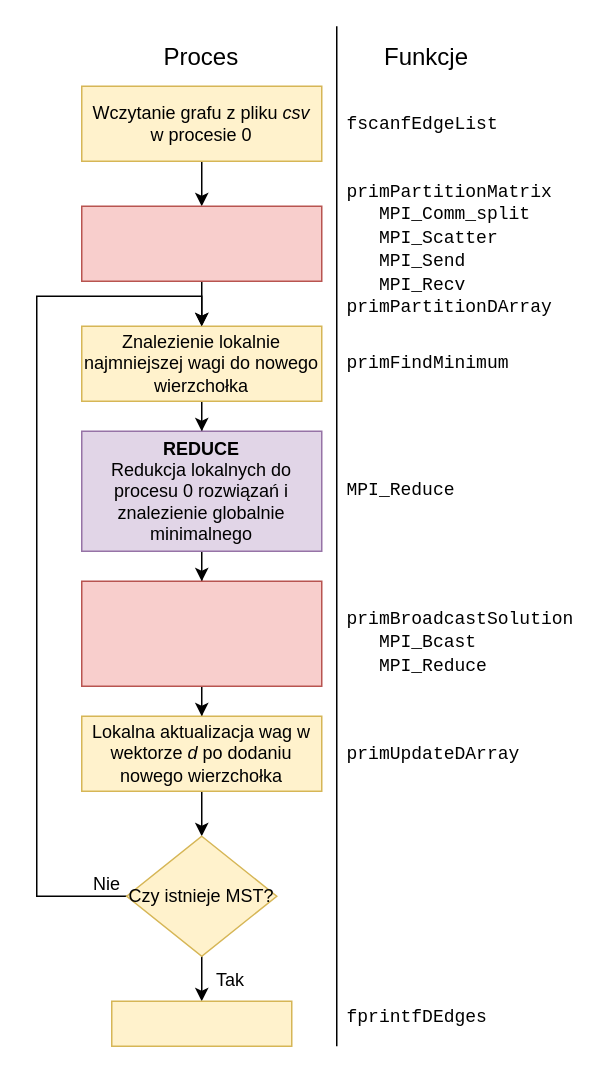
The diagram is 611 pixels wide and 1074 high, and some of its shapes have lost their labels. Each missing label, with the box of its shape:
BROADCAST Przesłanie informacji o nowym wierzchołku z procesu 0 do pozostałych: (80, 580, 322, 686)
Koniec: (110, 1000, 292, 1046)
SCATTER Podział macierzy i wektora wag na p procesów: (80, 205, 322, 281)
